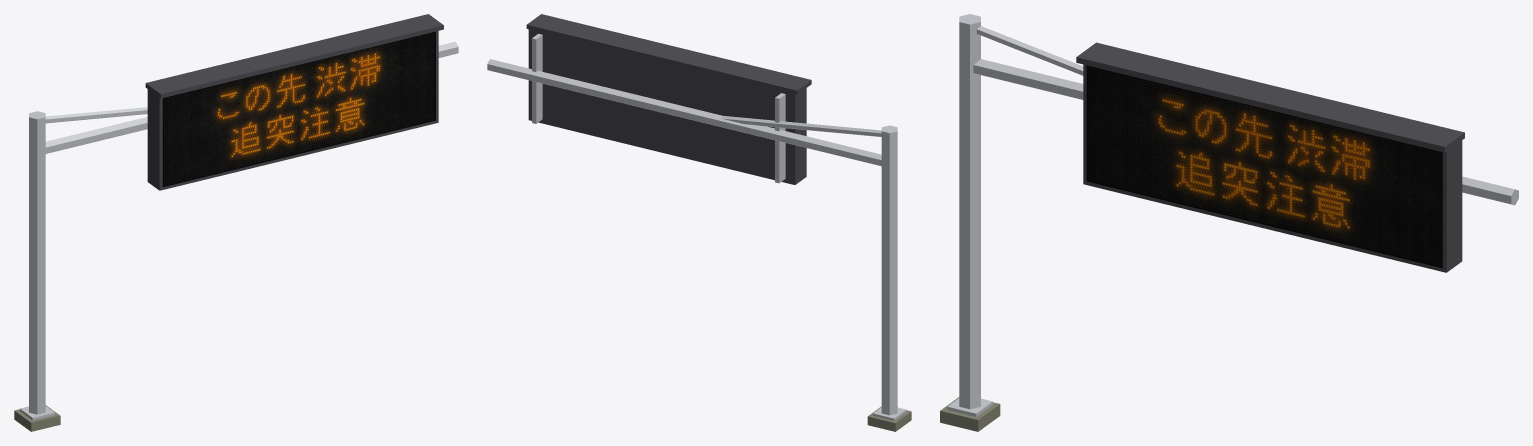
The picture shows the model from 3 angles, left to right: view 1: azimuth 30°, elevation 25°; view 2: azimuth 150°, elevation 25°; view 3: azimuth 330°, elevation 25°; orthographic projection. The views are drawn at different scales.
Visible parts, largest first — view 1: RoadSign_126; view 2: RoadSign_126; view 3: RoadSign_126.
Part boxes in pixels (x1=…): RoadSign_126: x1=14, y1=14, x2=458, y2=431; RoadSign_126: x1=487, y1=14, x2=911, y2=431; RoadSign_126: x1=940, y1=14, x2=1518, y2=431.
Size of the model in its own units: 12.42 by 8.73 by 1.46.
Materials: 4 (1 with a texture image).
